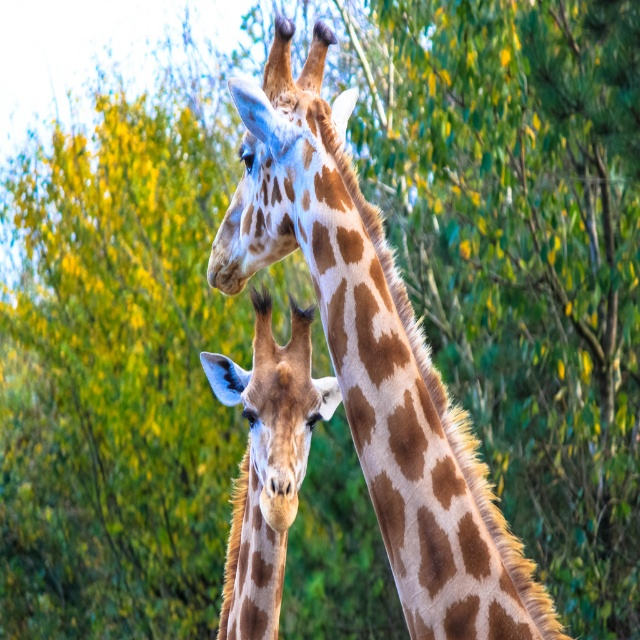Giraffe: (204, 16, 576, 639), (199, 280, 343, 639)
